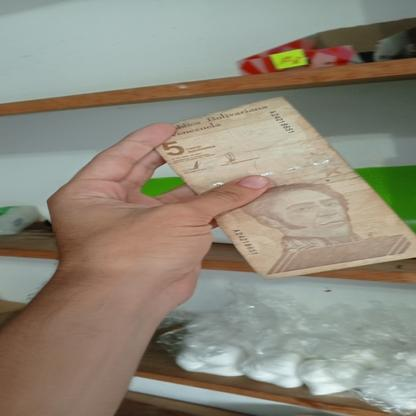five-front-vef: (154, 96, 416, 278)
